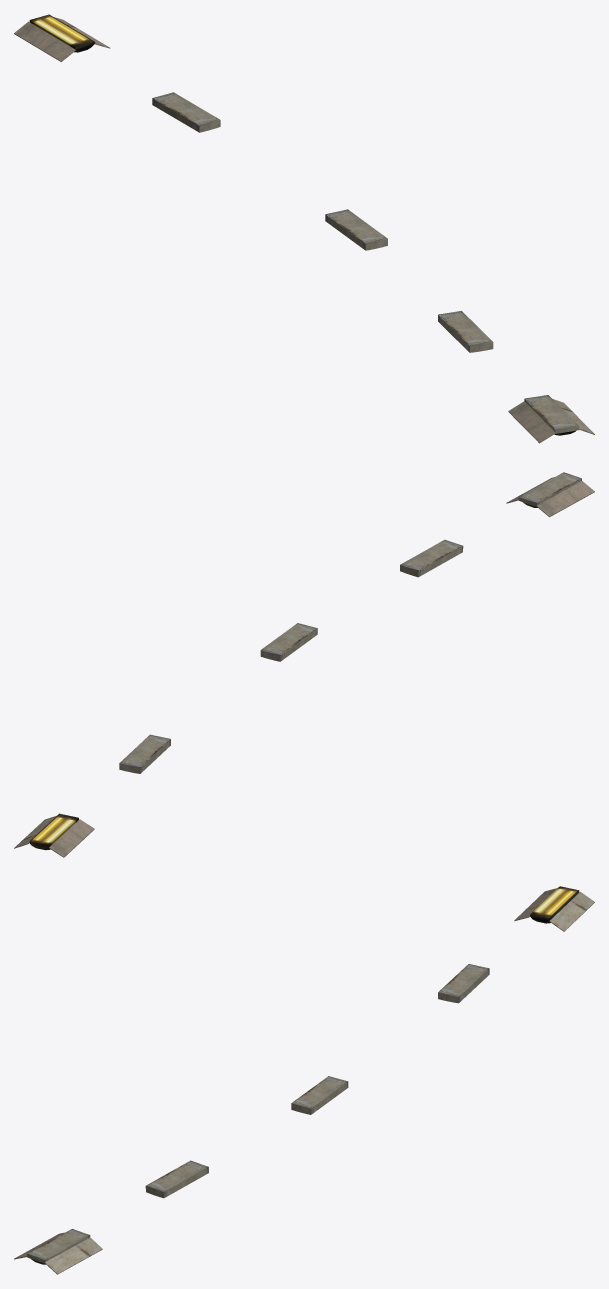
File: SM_Corridor_07_Lamps.fbx
3 renders of one model, top to bottom at view 1: azimuth 30°, elevation 25°; view 2: azimuth 150°, elevation 25°; view 3: azimuth 330°, elevation 25°, orthographic. The views are drawn at different scales.
Parts seen in each view (by area): view 1: SM_Corridor_07_Lamps; view 2: SM_Corridor_07_Lamps; view 3: SM_Corridor_07_Lamps.
Boxes of the visible parts, left/top/right/bottom form: SM_Corridor_07_Lamps: left=14, top=14, right=594, bottom=443; SM_Corridor_07_Lamps: left=14, top=472, right=594, bottom=857; SM_Corridor_07_Lamps: left=14, top=886, right=594, bottom=1274.
Bounding box in the file's own units: 292 × 38.85 × 3302.
